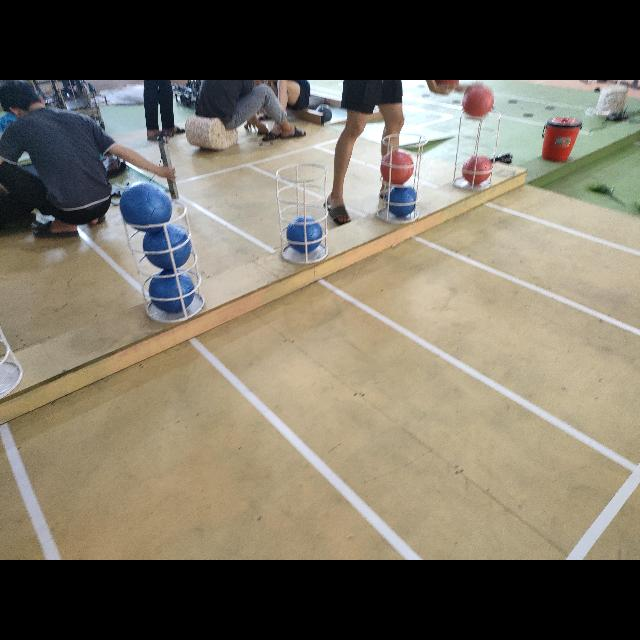B: (119, 182, 171, 230), (143, 227, 191, 270), (148, 271, 194, 313), (286, 216, 322, 254), (386, 186, 418, 218)
R: (380, 151, 414, 185), (462, 154, 492, 184)
